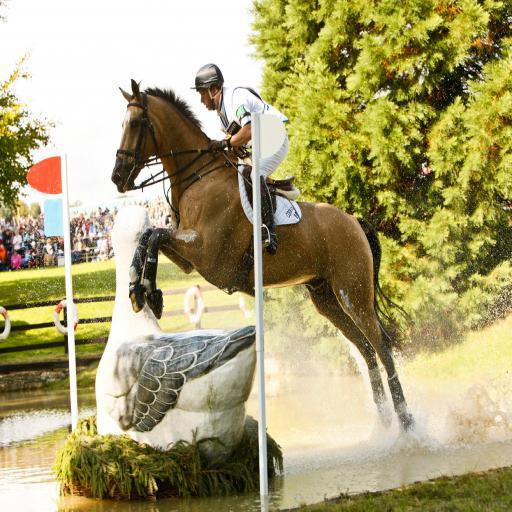Horse: (110, 77, 417, 435)
